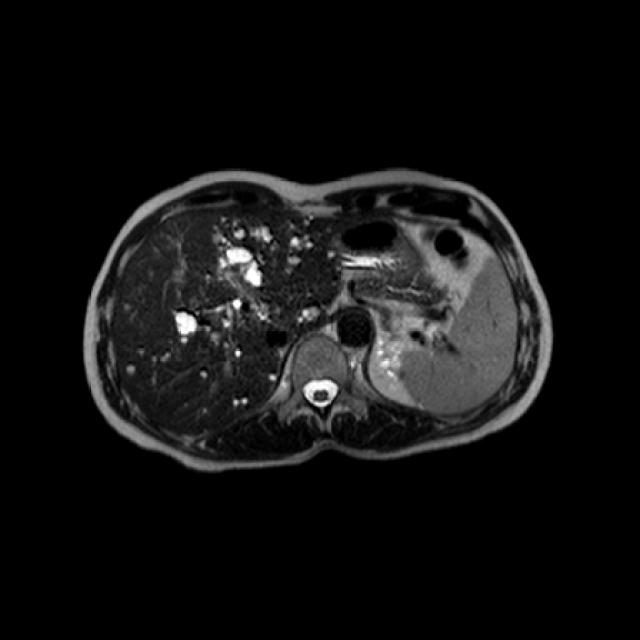sol: (376, 333, 407, 384)
